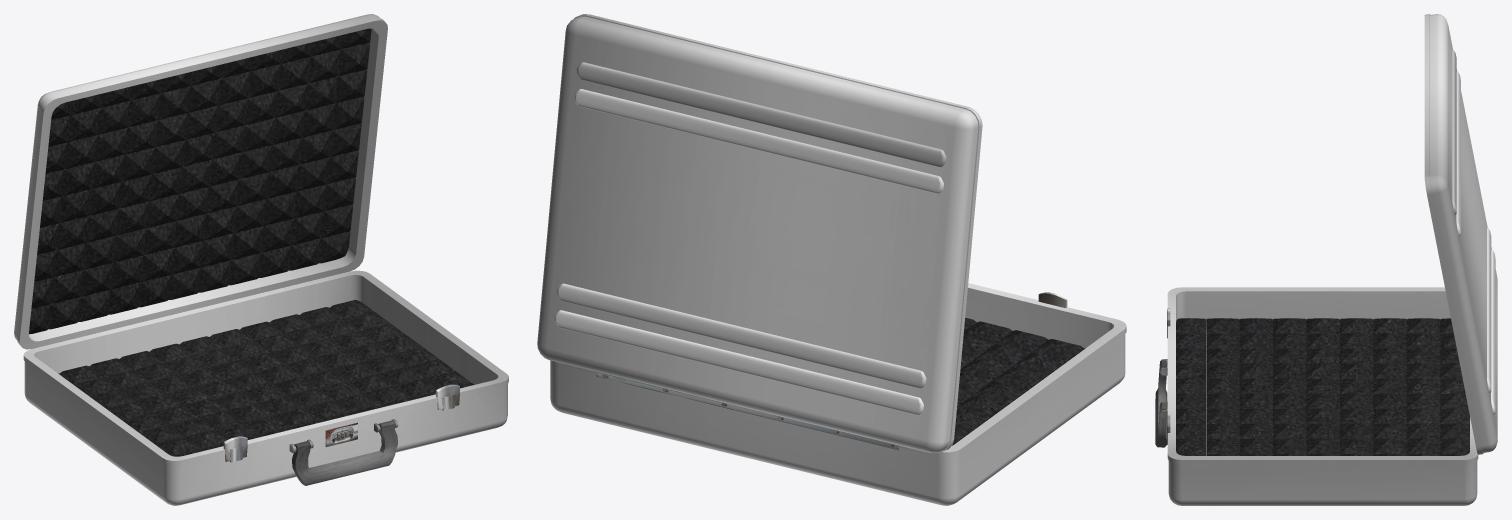
The model's file is valigetta_metallo.fbx.
3 views of the same model, side by side, from view 1: azimuth 30°, elevation 25°; view 2: azimuth 150°, elevation 25°; view 3: azimuth 270°, elevation 25° (orthographic). The views are drawn at different scales.
Parts seen in each view (by area): view 1: Top_Foam, Bottom_Foam; view 2: Top_Foam, Bottom_Foam; view 3: Bottom_Foam, Top_Foam.
Part boxes in pixels (box(x1,y1,x2,y2)): Top_Foam: box(14, 14, 387, 349); Bottom_Foam: box(23, 270, 508, 505); Top_Foam: box(537, 14, 982, 453); Bottom_Foam: box(550, 283, 1126, 505); Bottom_Foam: box(1155, 287, 1478, 505); Top_Foam: box(1424, 14, 1497, 454).
Size of the model in its own units: 63.47 by 56.89 by 53.18.
